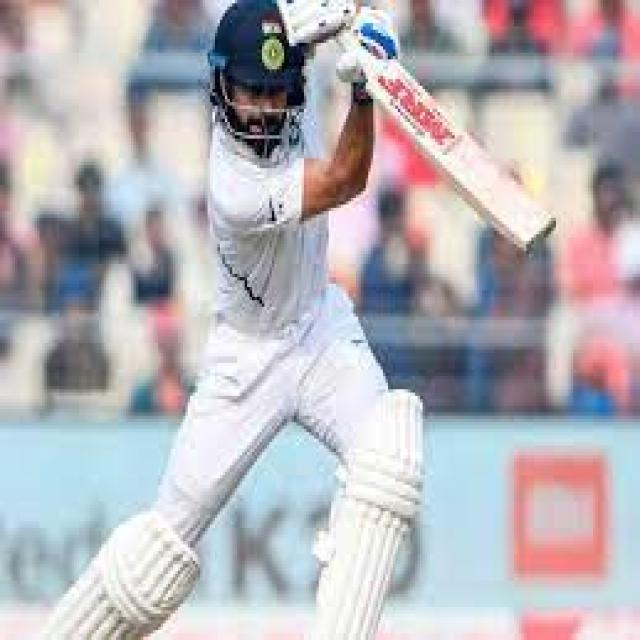toe: (492, 181, 557, 256)
